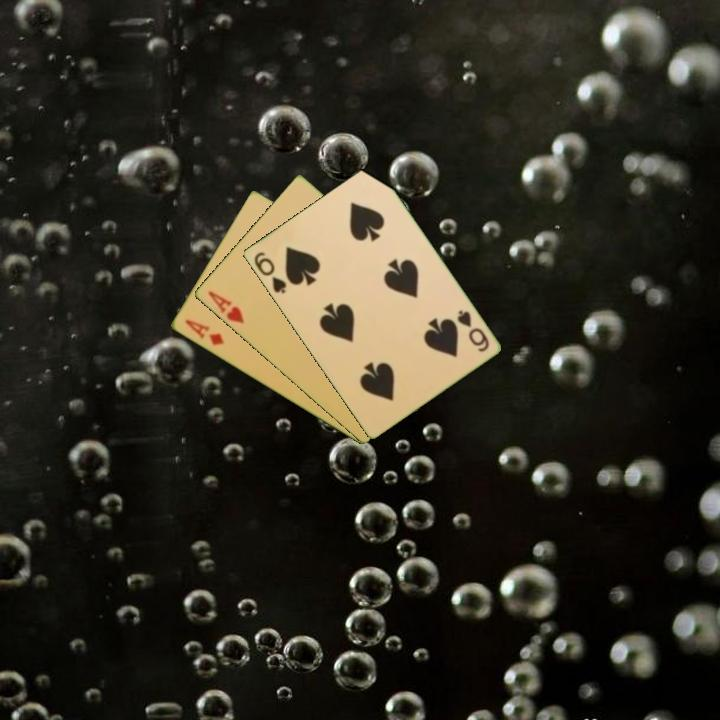6s: (250, 248, 289, 297), (453, 306, 492, 355)
Ad: (181, 316, 227, 349)
Ah: (204, 287, 246, 327)
